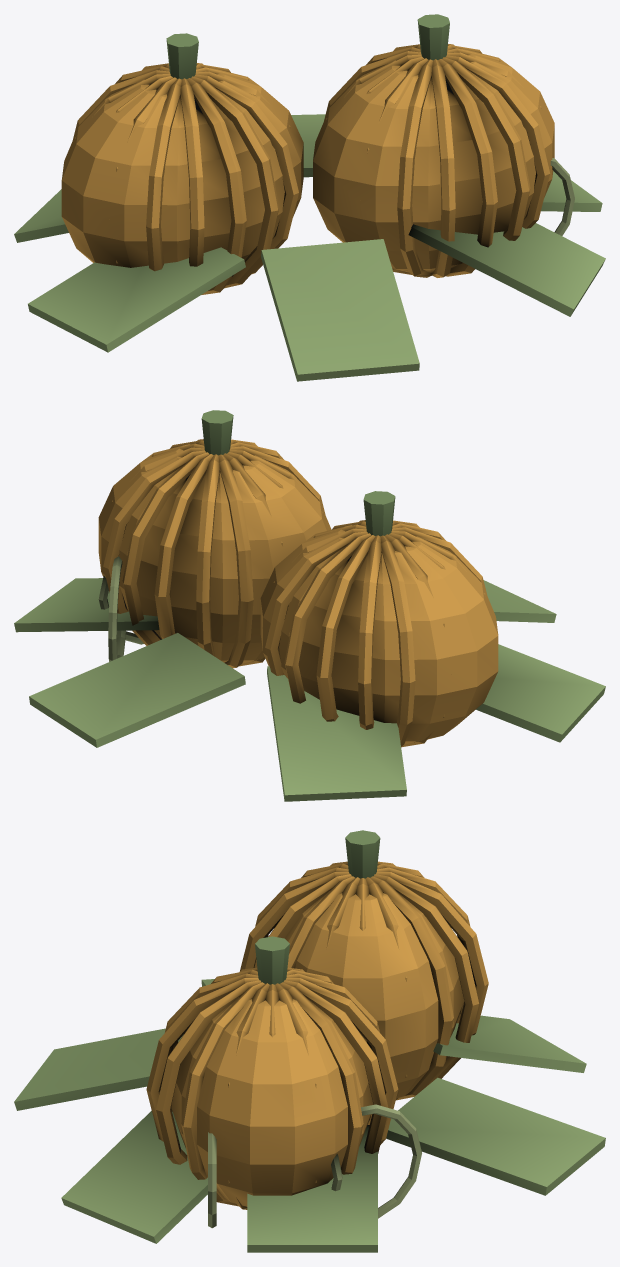
The model's file is crop_pumpkin.glb.
3 renders of one model, top to bottom at view 1: azimuth 30°, elevation 25°; view 2: azimuth 150°, elevation 25°; view 3: azimuth 270°, elevation 25°, orthographic. The views are drawn at different scales.
Parts seen in each view (by area): view 1: pumpkin; view 2: pumpkin; view 3: pumpkin.
Part boxes in pixels (x1,y1,x2,y2): pumpkin: (14, 14, 605, 381); pumpkin: (14, 410, 605, 801); pumpkin: (14, 830, 605, 1252).
Size of the model in its own units: 1.29 by 0.5647 by 1.18.
